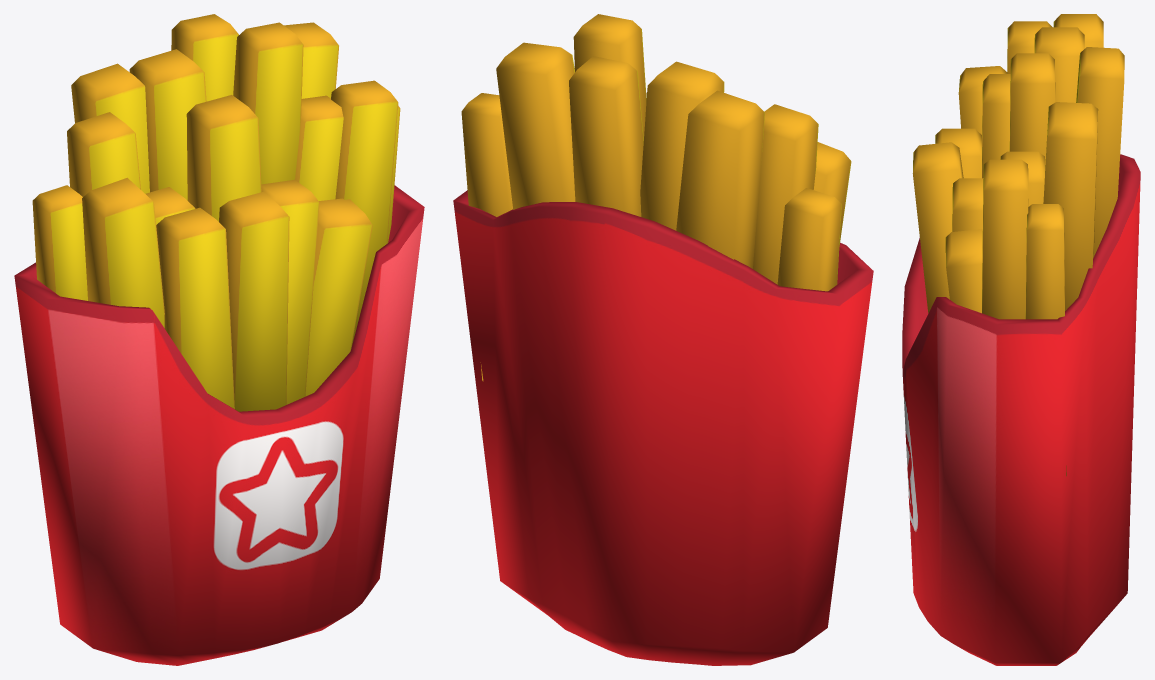
The model's file is chips.fbx.
3 renders of one model, left to right at view 1: azimuth 30°, elevation 25°; view 2: azimuth 150°, elevation 25°; view 3: azimuth 270°, elevation 25°, orthographic. The views are drawn at different scales.
Visible parts, largest first — view 1: Chips; view 2: Chips; view 3: Chips.
Part boxes in pixels (x1,y1,x2,y2): Chips: (14,14,424,665); Chips: (453,14,873,665); Chips: (902,14,1140,665).
Bounding box in the file's own units: 92.25 × 136 × 50.36.
Materials: 1 (1 with a texture image).
